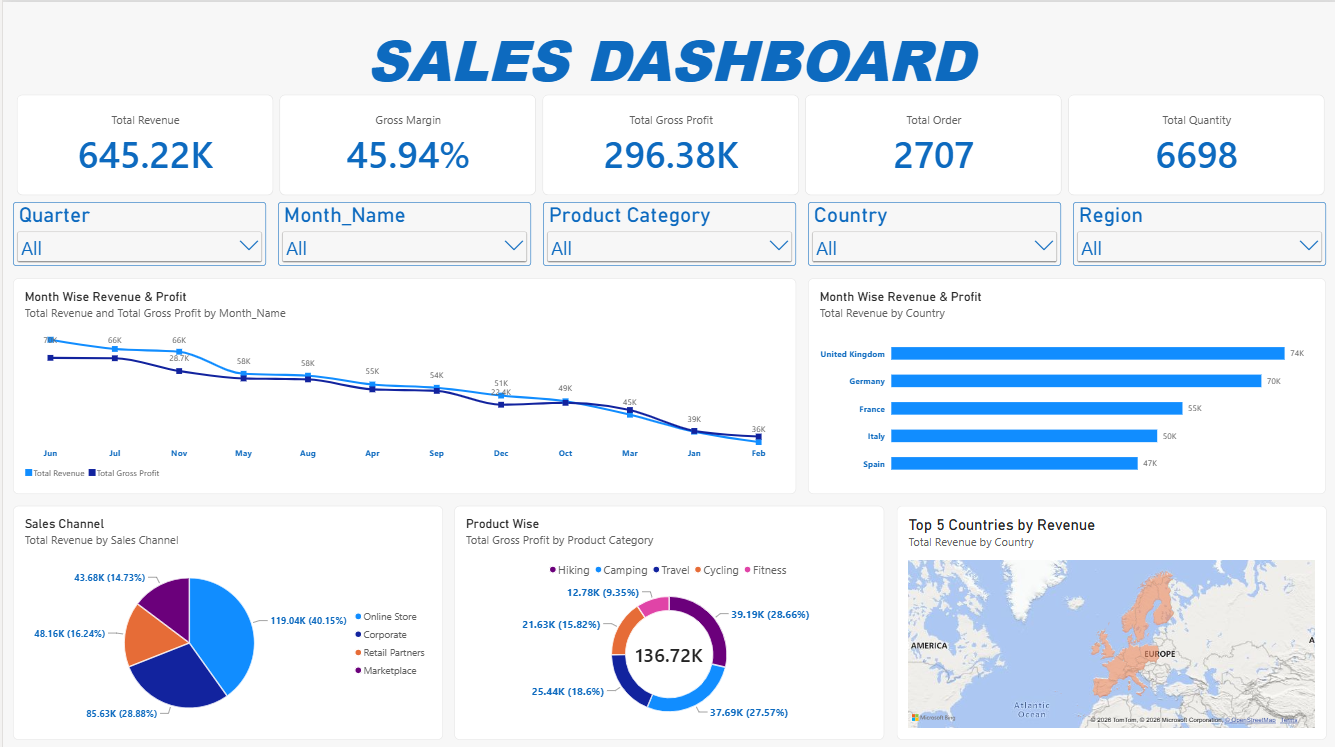

Layout of this report page (visuals, bound fields, positions):
{"tool":"powerbi","page":{"name":"Page 1","canvas":[1920,1080],"ordinal":0},"visuals":[{"type":"cardVisual","fields":{"Data":["New_Measures.Total Revenue","New_Measures.Gross Margin","New_Measures.Total Gross Profit","New_Measures.Total Order","New_Measures.Total Quantity"]},"box":[8.3,121.7,1905,166.7],"z":0},{"type":"textbox","box":[0,25,1920,113.3],"z":1000},{"type":"slicer","fields":{"Values":["Data_Table.Quarter"]},"box":[15,288.3,364,91.7],"z":2000},{"type":"slicer","fields":{"Values":["Data_Table.Month_Name"]},"box":[396.1,288.3,364,91.7],"z":3000},{"type":"lineChart","title":"Month Wise Revenue & Profit","fields":{"Category":["Data_Table.Month_Name"],"Y":["New_Measures.Total Revenue"],"Y2":["New_Measures.Total Gross Profit"]},"box":[15,396.7,1126.7,310],"z":3000},{"type":"slicer","fields":{"Values":["SalesDataTable.Product Category"]},"box":[777.2,288.3,364,91.7],"z":4000},{"type":"clusteredBarChart","title":"Month Wise Revenue & Profit","fields":{"Category":["SalesDataTable.Country"],"Y":["New_Measures.Total Revenue"]},"box":[1158.3,396.7,745,310],"z":4000},{"type":"slicer","fields":{"Values":["SalesDataTable.Region"]},"box":[1539.4,288.3,364,91.7],"z":5000},{"type":"pieChart","title":"Sales Channel","fields":{"Category":["SalesDataTable.Sales Channel"],"Y":["New_Measures.Total Revenue"]},"box":[15,725,618.7,336.7],"z":5000},{"type":"slicer","fields":{"Values":["SalesDataTable.Country"]},"box":[1158.3,288.3,364,91.7],"z":6000},{"type":"donutChart","title":"Product Wise","fields":{"Category":["SalesDataTable.Product Category"],"Y":["New_Measures.Total Gross Profit"]},"box":[649.8,725,618.7,336.7],"z":6000},{"type":"filledMap","title":"Top 5 Countries by Revenue","fields":{"Category":["SalesDataTable.Country"]},"box":[1284.6,725,618.7,336.7],"z":7000}]}

Visuals, with their boxes in screenshot pixels (x1, y1, x2, y2), scaled from the page's 1920x1080 canvas onto the 1335x747 screenshot:
cardVisual - New_Measures.Total Revenue x New_Measures.Gross Margin: Rect(6, 84, 1330, 199)
textbox: Rect(0, 17, 1334, 96)
slicer - Data_Table.Quarter: Rect(10, 199, 264, 263)
slicer - Data_Table.Month_Name: Rect(275, 199, 529, 263)
"Month Wise Revenue & Profit" lineChart: Rect(10, 274, 794, 489)
slicer - SalesDataTable.Product Category: Rect(540, 199, 793, 263)
"Month Wise Revenue & Profit" clusteredBarChart: Rect(805, 274, 1323, 489)
slicer - SalesDataTable.Region: Rect(1070, 199, 1323, 263)
"Sales Channel" pieChart: Rect(10, 501, 441, 734)
slicer - SalesDataTable.Country: Rect(805, 199, 1058, 263)
"Product Wise" donutChart: Rect(452, 501, 882, 734)
"Top 5 Countries by Revenue" filledMap: Rect(893, 501, 1323, 734)
